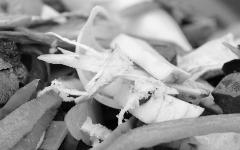organic: (90, 105, 240, 145), (0, 84, 68, 150), (0, 2, 60, 32)
